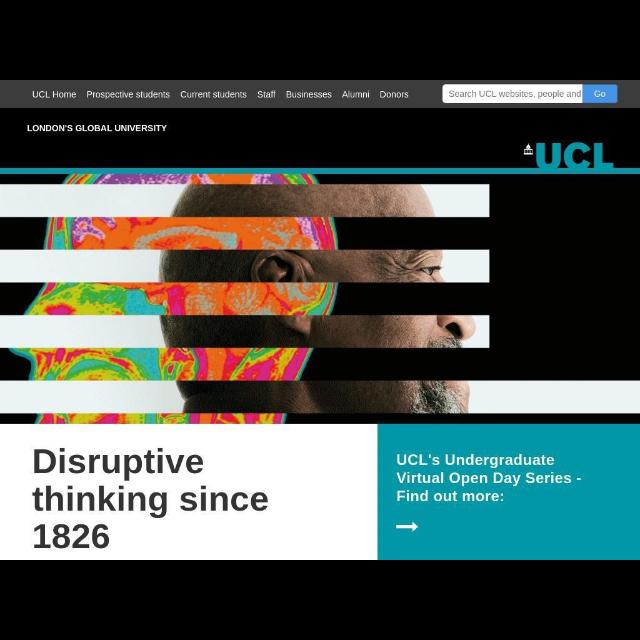icon: (397, 520, 419, 536)
image: (1, 168, 639, 424), (520, 140, 618, 172)
input: (442, 84, 584, 102)
text: (33, 444, 269, 552), (395, 452, 585, 504), (24, 122, 168, 134), (447, 88, 581, 99), (85, 90, 172, 102), (181, 88, 247, 100), (30, 88, 78, 102), (287, 90, 333, 100), (378, 88, 410, 102), (342, 91, 370, 102), (258, 88, 276, 100), (593, 88, 605, 100)
textbutton: (584, 82, 620, 104)
toolbar: (4, 82, 638, 106)
